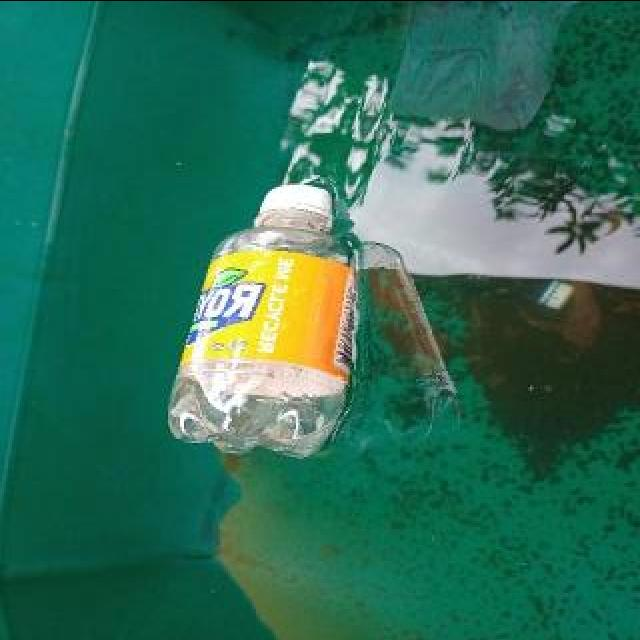Bottle: (162, 178, 364, 466)
